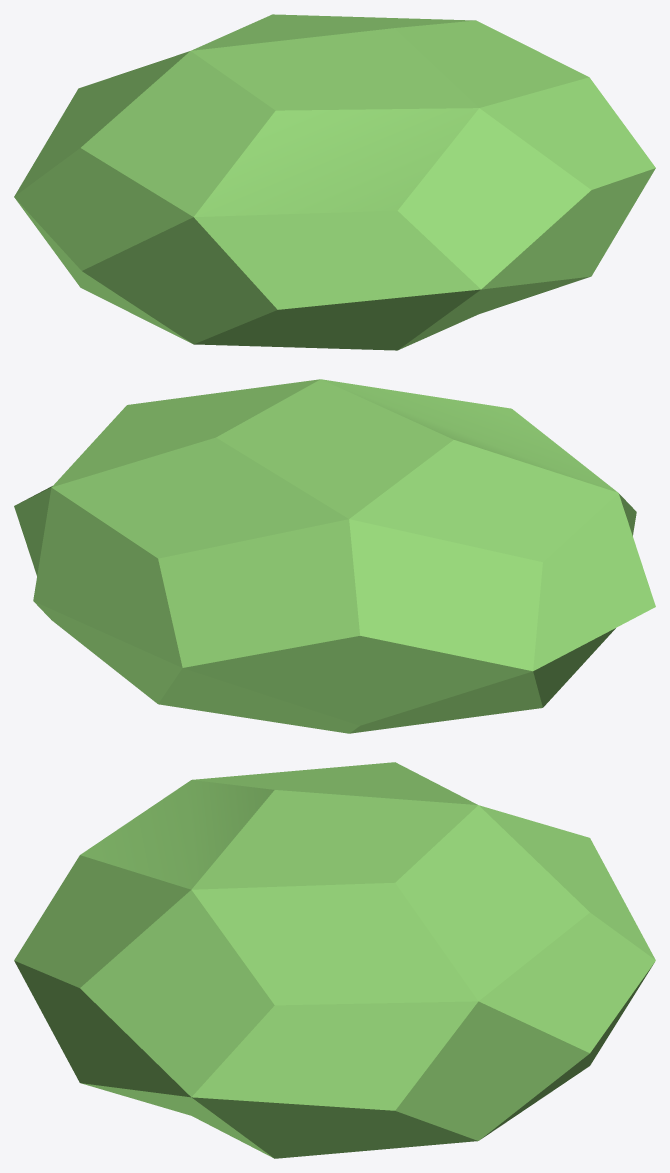
File: bush green.fbx
3 views of the same model, one above another, from view 1: azimuth 30°, elevation 25°; view 2: azimuth 150°, elevation 25°; view 3: azimuth 270°, elevation 25° (orthographic). The views are drawn at different scales.
Parts seen in each view (by area): view 1: polySurface16; view 2: polySurface16; view 3: polySurface16.
Part boxes in pixels (box(x1,y1,x2,y2)): polySurface16: box(14, 14, 655, 350); polySurface16: box(14, 379, 655, 733); polySurface16: box(14, 762, 655, 1158).
Size of the model in its own units: 330 by 127 by 298.
